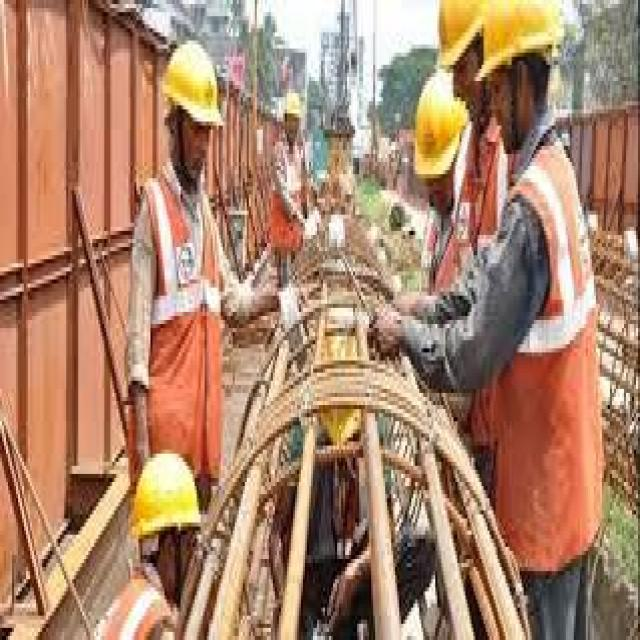Reflective-Jacket: (483, 134, 606, 478), (130, 166, 233, 450), (80, 571, 195, 640)
Safety-Helmet: (439, 0, 584, 93), (122, 437, 209, 559), (406, 65, 474, 194), (157, 28, 230, 138), (279, 81, 309, 130)
